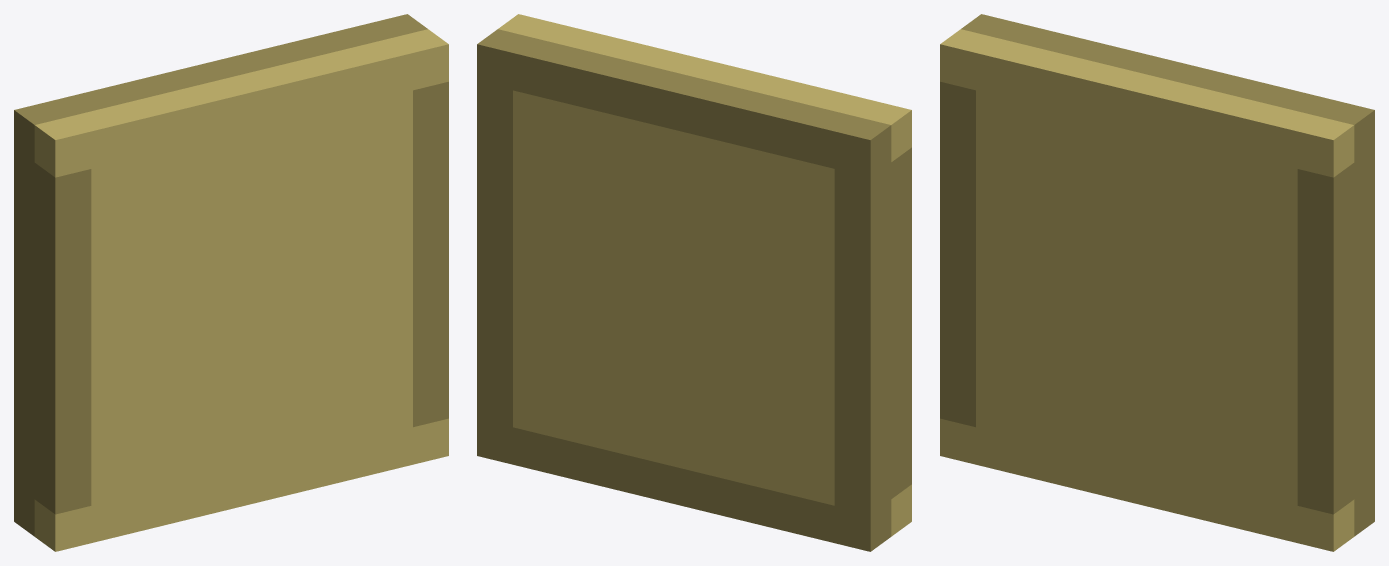
The model's file is candelabro_pared_grande_oro_01.glb.
The picture shows the model from 3 angles, left to right: view 1: azimuth 30°, elevation 25°; view 2: azimuth 150°, elevation 25°; view 3: azimuth 330°, elevation 25°; orthographic projection.
Visible parts, largest first — view 1: candelabro_pared_grande_oro; view 2: candelabro_pared_grande_oro; view 3: candelabro_pared_grande_oro.
Part boxes in pixels (x1,y1,x2,y2): candelabro_pared_grande_oro: (14,14,448,551); candelabro_pared_grande_oro: (477,14,911,551); candelabro_pared_grande_oro: (940,14,1374,551).
Size of the model in its own units: 1 by 1 by 0.1818.
